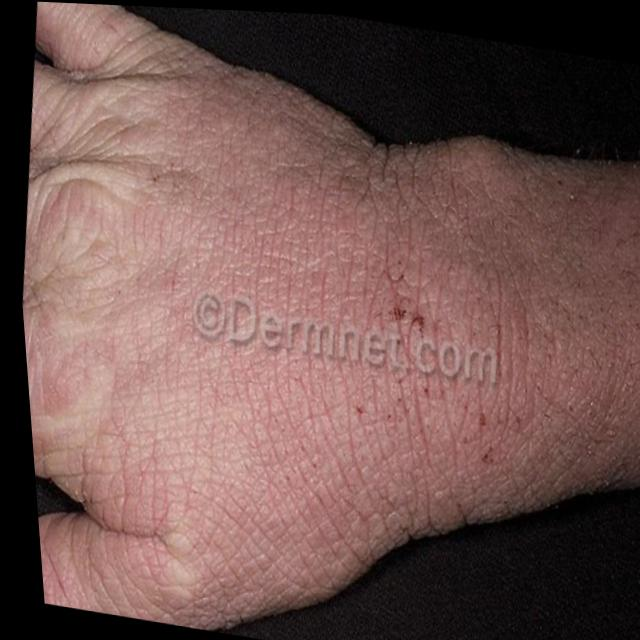liquenificacion 1: (34, 4, 640, 625)
liquenificacion 2: (34, 4, 640, 625)
liquenificacion 3: (34, 4, 640, 625)
